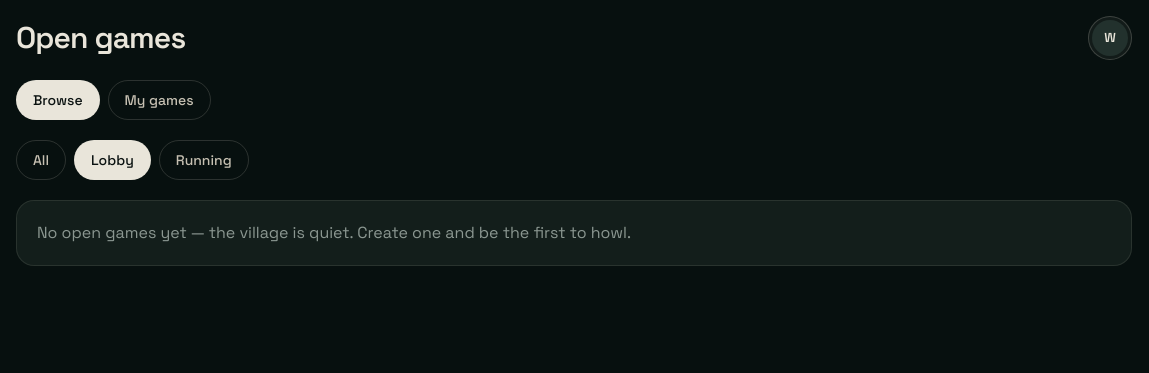
Test: browser: ignores an out-of-order response after switching scopes
Click the tab "My games" at (159, 100), box [108,80,211,120]
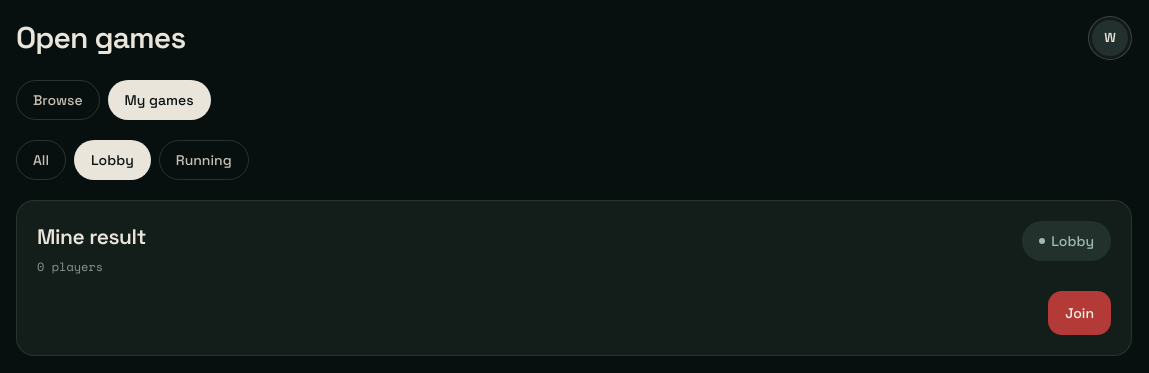
Expected: the heading "Mine result" is shown, [37,221,146,252]
